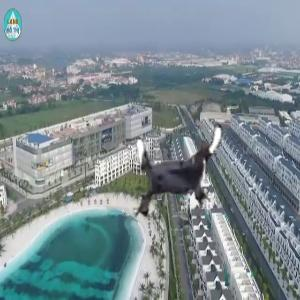drone: (123, 117, 234, 228)
